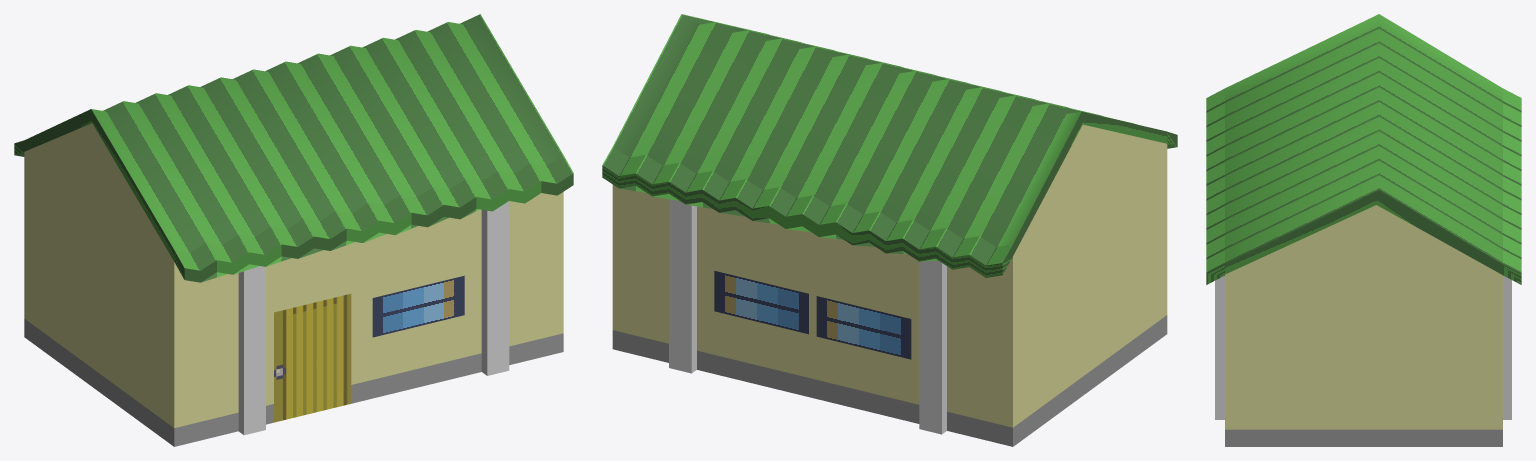
The model's file is virhouse.FBX.
3 views of the same model, side by side, from view 1: azimuth 30°, elevation 25°; view 2: azimuth 150°, elevation 25°; view 3: azimuth 270°, elevation 25° (orthographic). The views are drawn at different scales.
Visible parts, largest first — view 1: Box001, Box003, Box002, Plane001; view 2: Box001, Box005, Box004, Plane003, Plane002; view 3: Box001, Box003, Box004.
Part boxes in pixels (x1,y1,x2,y2): Box001: (14,14,573,446); Box003: (481,201,509,375); Box002: (238,266,265,435); Plane001: (372,275,464,337); Box001: (602,14,1177,446); Box005: (919,260,946,434); Box004: (669,199,696,373); Plane003: (816,296,911,359); Plane002: (714,271,808,334); Box001: (1206,14,1521,446); Box003: (1215,275,1224,419); Box004: (1503,275,1511,419).
Bounding box in the file's own units: 330 × 225 × 250.
Materials: 6 (4 with a texture image).
